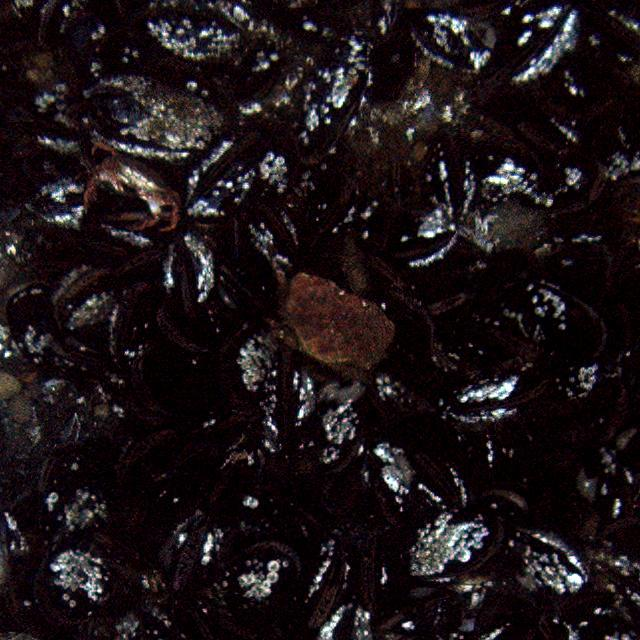crab: (87, 142, 187, 233)
